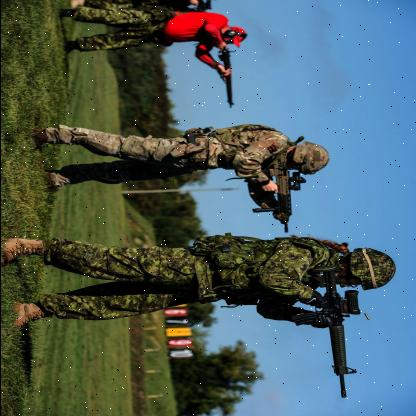rifle: (297, 267, 361, 405), (256, 160, 300, 232)
